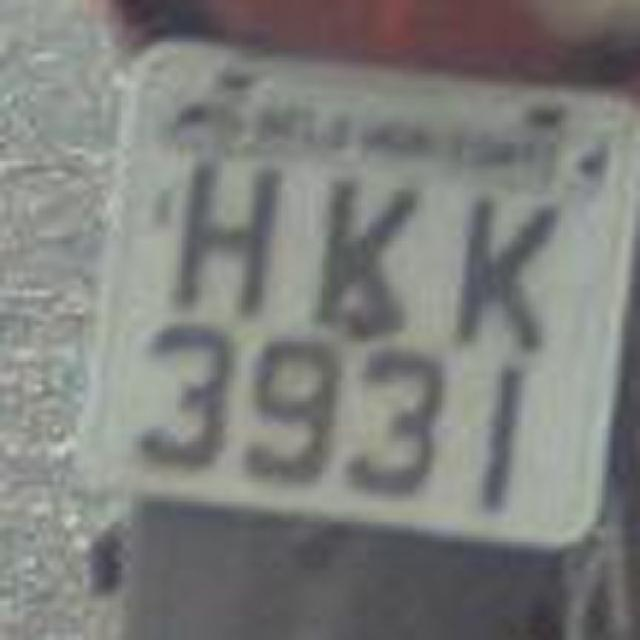1: (464, 344, 548, 488)
3: (108, 312, 260, 500), (336, 328, 472, 500)
9: (232, 320, 356, 500)
B: (280, 164, 425, 348)
H: (148, 160, 284, 325)
K: (432, 168, 560, 348)
